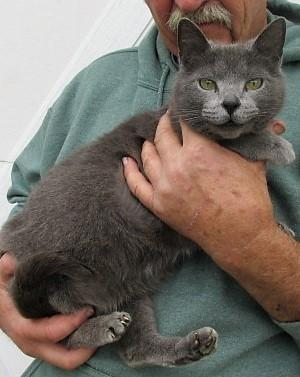rblue: (168, 17, 292, 147)
